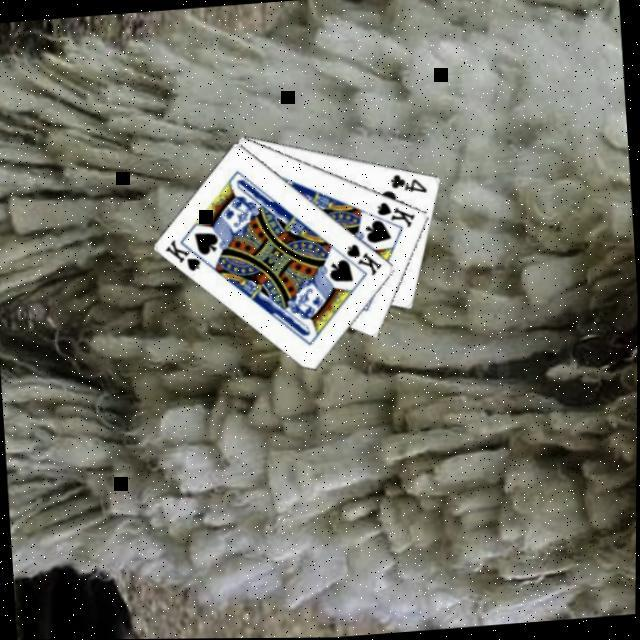4C: (388, 167, 432, 196)
KS: (162, 232, 214, 274), (345, 236, 388, 278), (376, 195, 420, 230)
